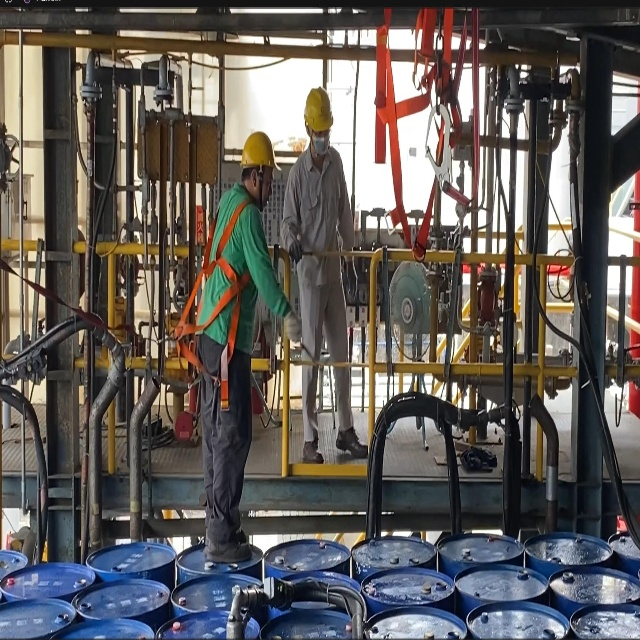Arnes_seguridad: (169, 180, 263, 418)
